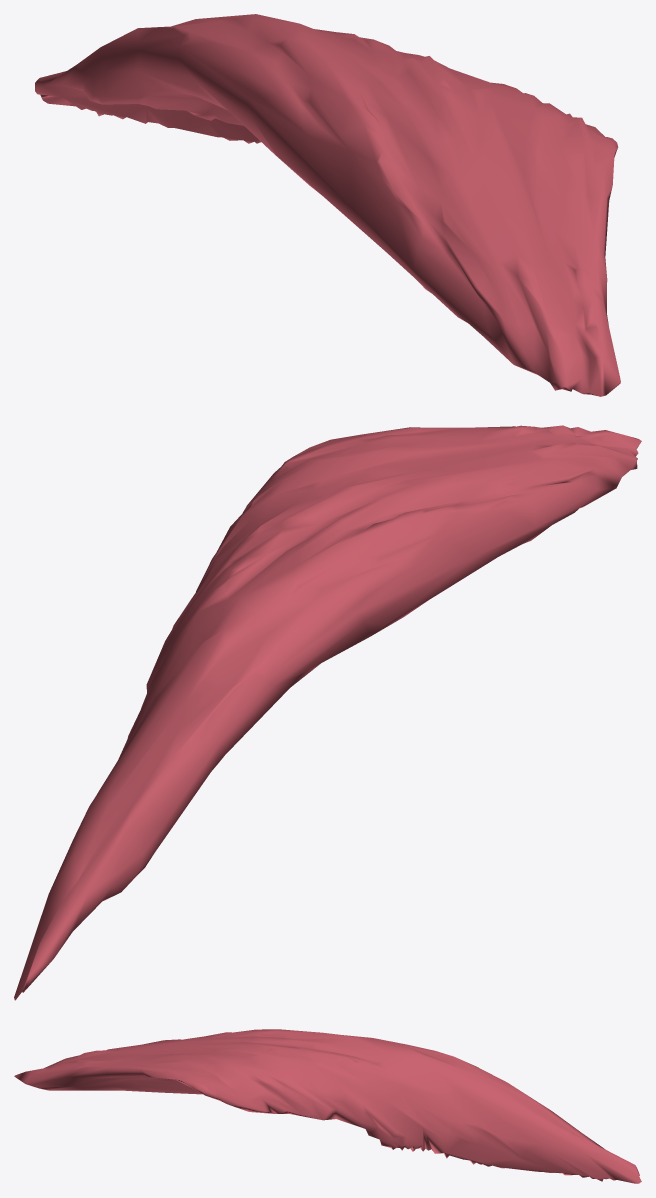
3 renders of one model, top to bottom at view 1: azimuth 30°, elevation 25°; view 2: azimuth 150°, elevation 25°; view 3: azimuth 270°, elevation 25°, orthographic. The views are drawn at different scales.
Parts seen in each view (by area): view 1: 右侧肘肌; view 2: 右侧肘肌; view 3: 右侧肘肌.
Part boxes in pixels (x1,y1,x2,y2): 右侧肘肌: [35, 14, 620, 396]; 右侧肘肌: [14, 425, 641, 1000]; 右侧肘肌: [14, 1029, 641, 1183].
Size of the model in its own units: 0.0351 by 0.0386 by 0.1542.
